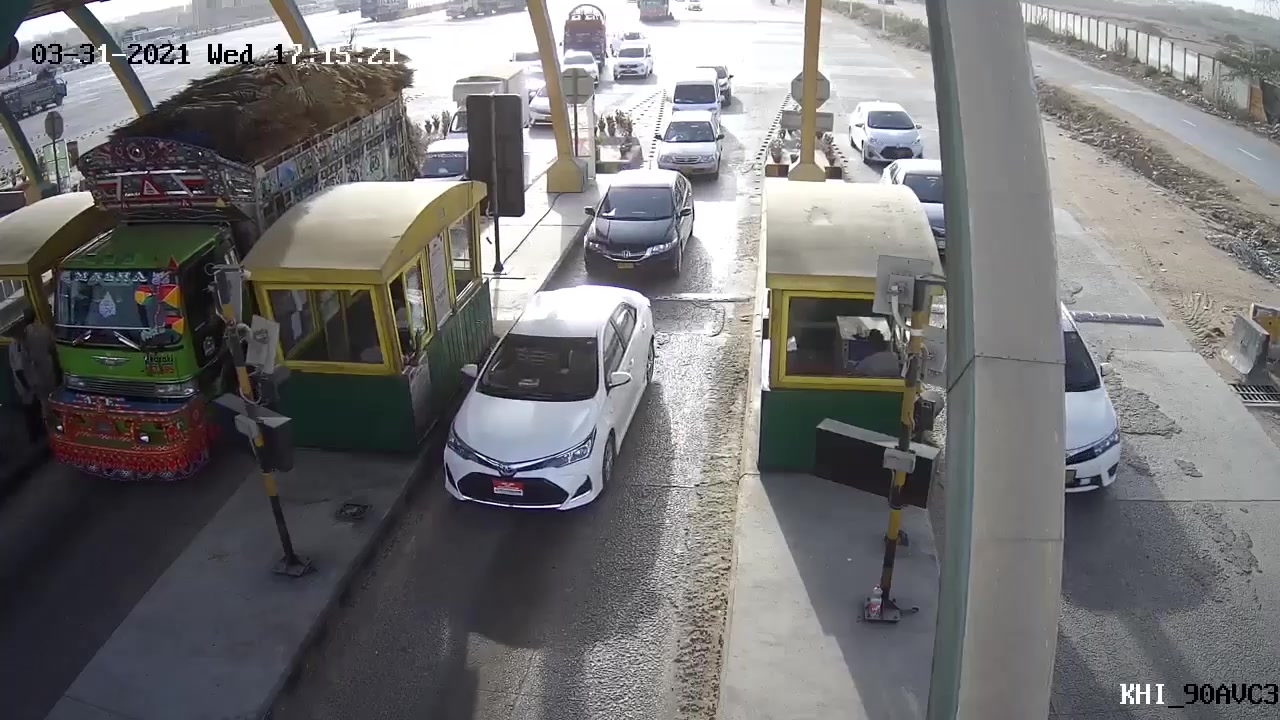F1: (427, 285, 670, 520)
